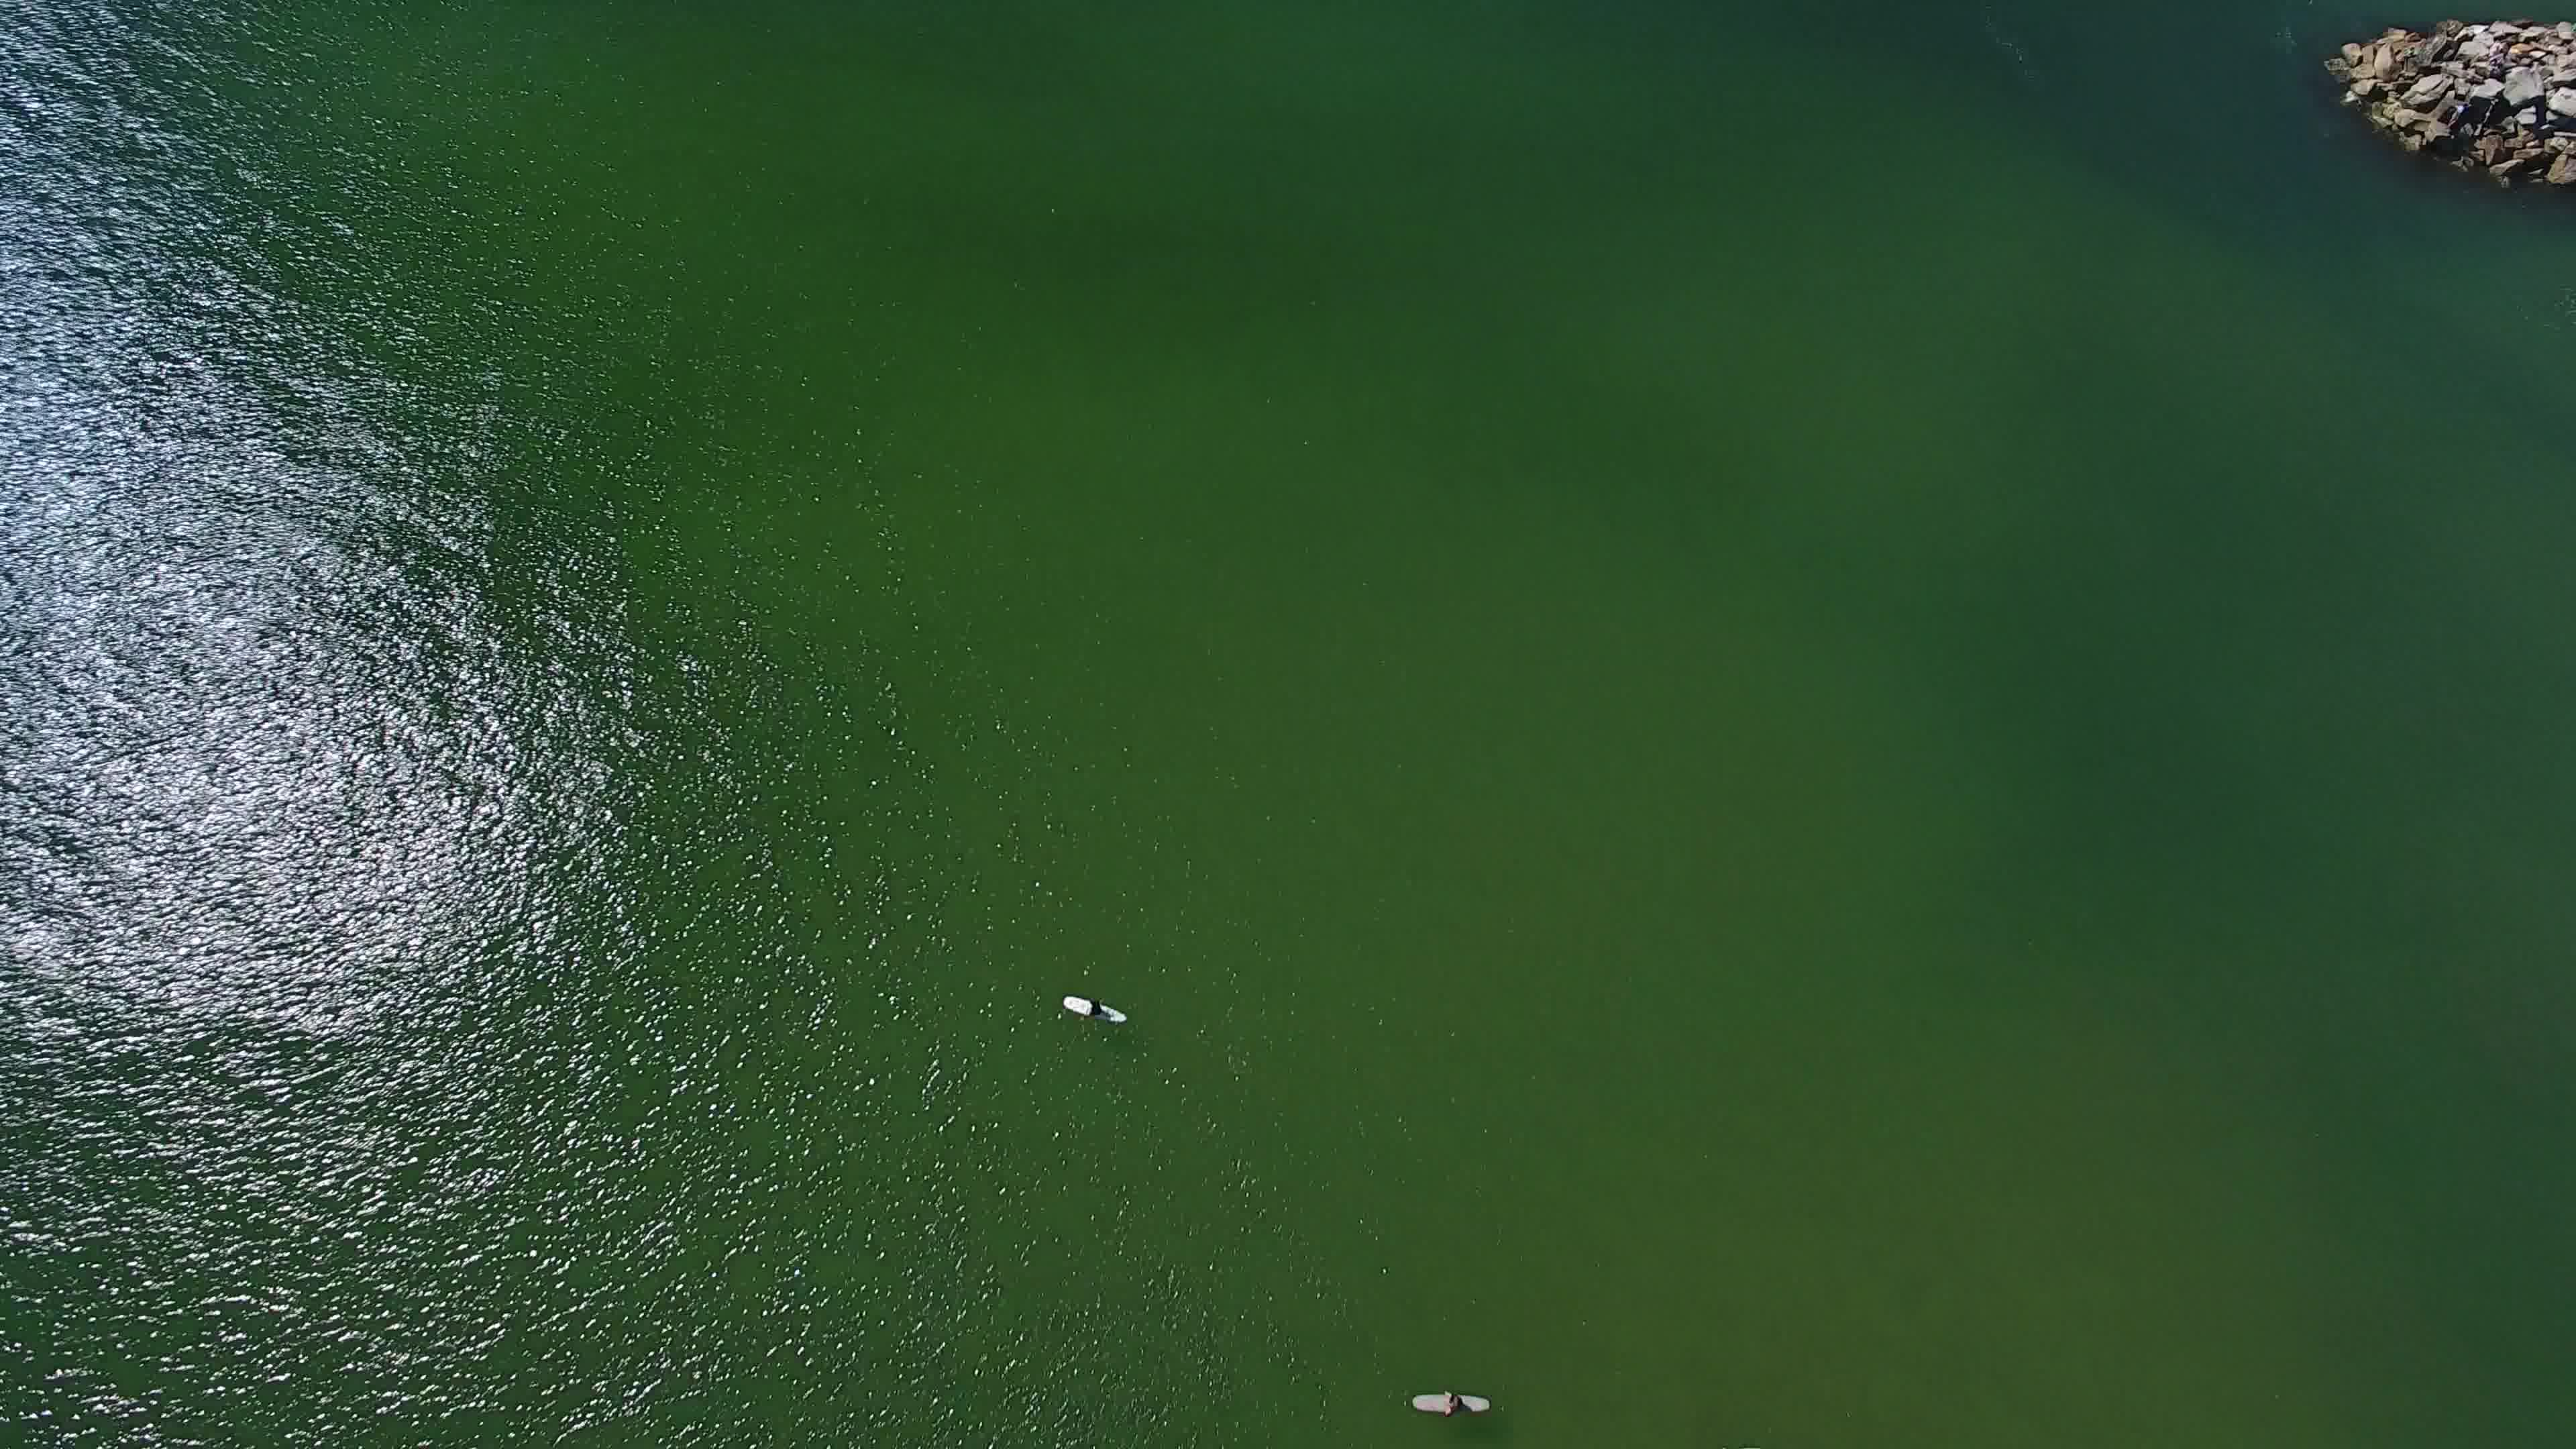surfer: (1058, 982, 1141, 1035), (1401, 1384, 1504, 1422)
